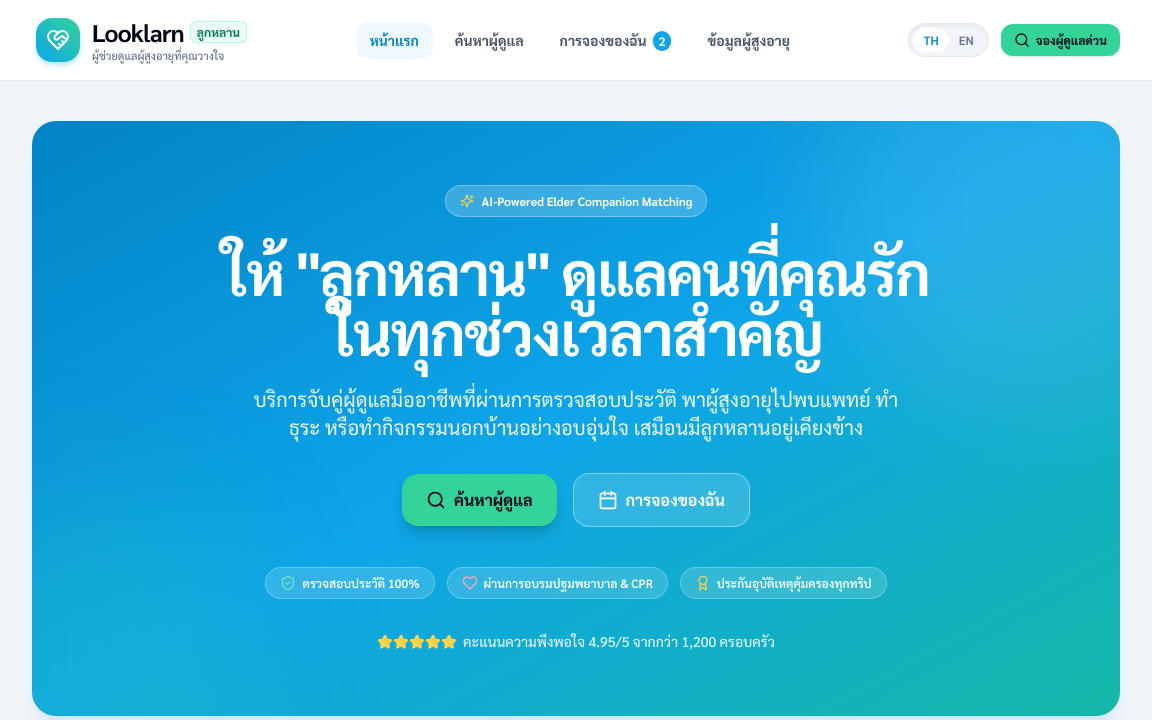
Test: Tier 1: Core Feature Coverage across 7 Routes & Components › Feature 1: Language Context & i18n System › 1.3 should toggle back to Thai when TH is clicked again
The image size is (1152, 720).
Click the button "EN".
click(966, 40)  # box x1=949 y1=28 x2=984 y2=52
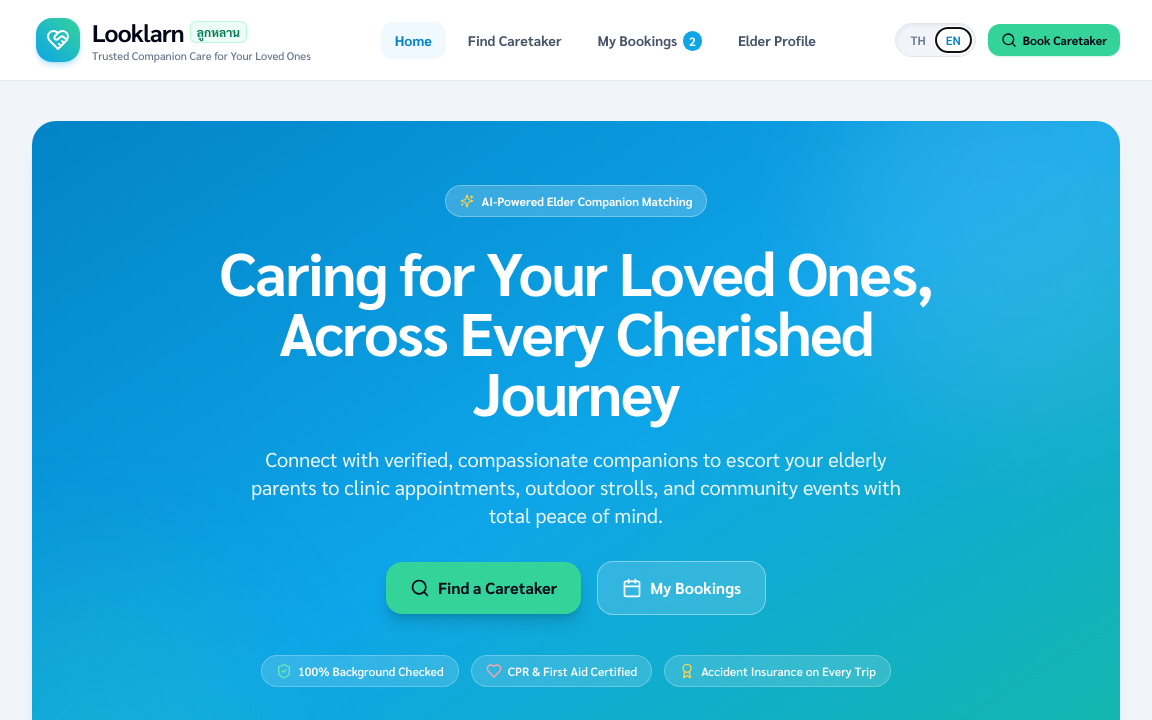
Check: the text "Find a Caretaker" is shown, box x1=438 y1=576 x2=557 y2=600
Click the button "TH".
click(918, 40)  # box x1=900 y1=28 x2=936 y2=52
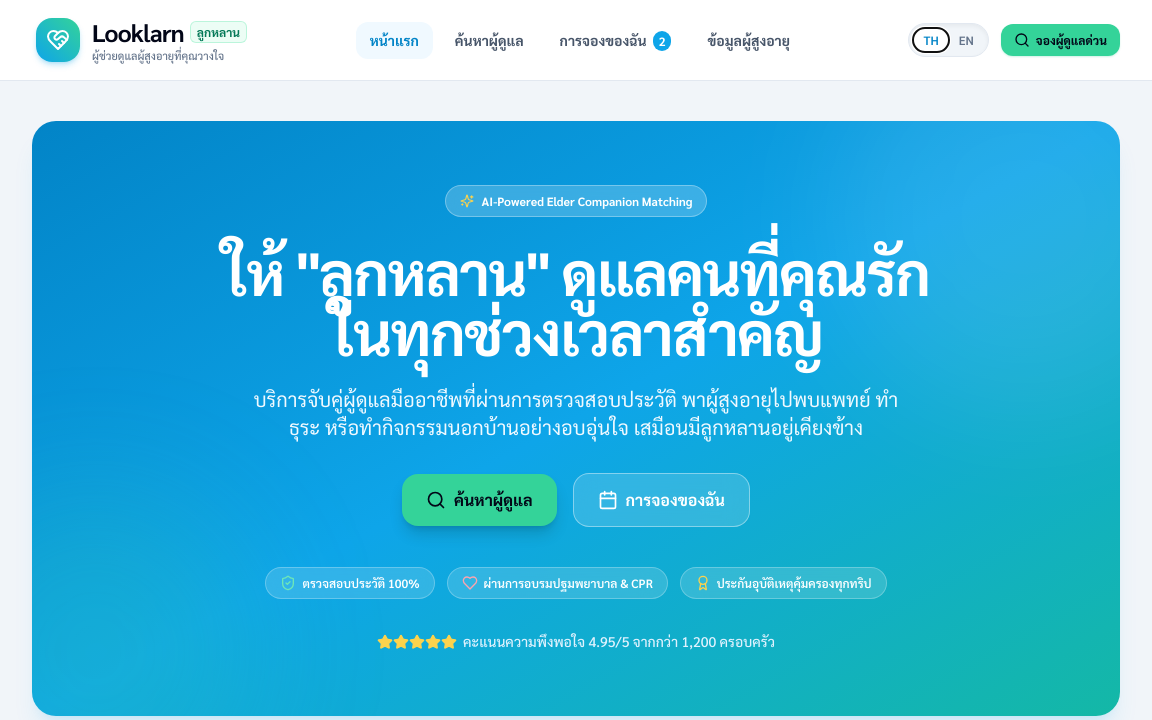
Check: the text "ค้นหาผู้ดูแล" next to "หน้าแรก" is shown, box x1=455 y1=30 x2=524 y2=48
